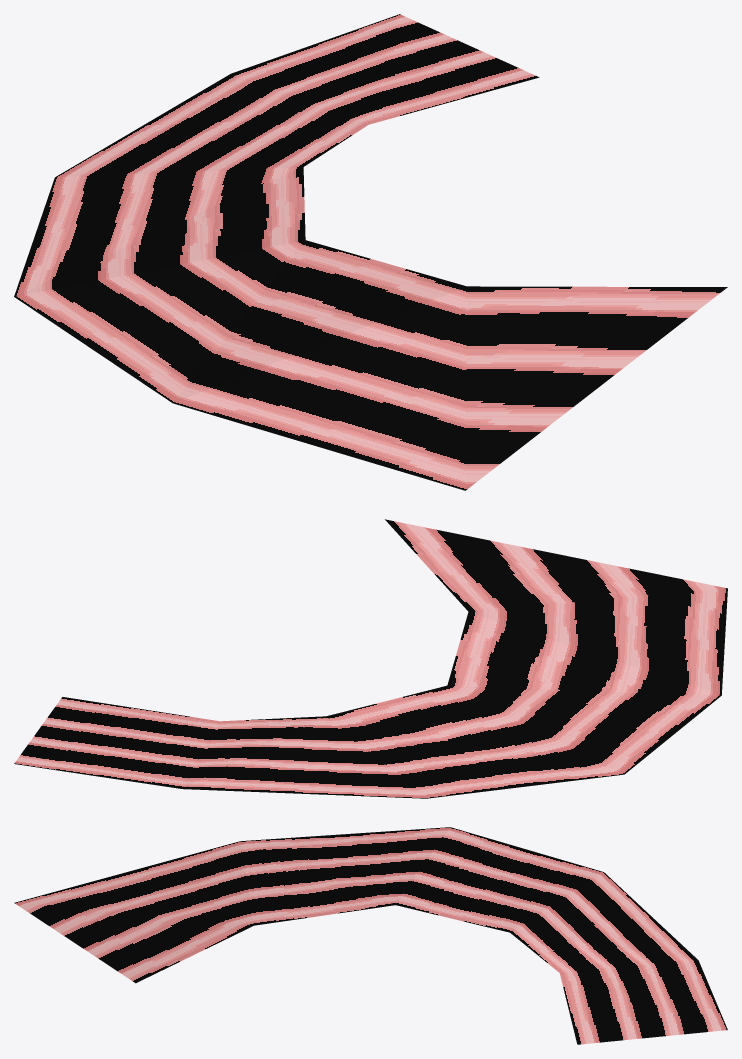
The picture shows the model from 3 angles, top to bottom: view 1: azimuth 30°, elevation 25°; view 2: azimuth 150°, elevation 25°; view 3: azimuth 270°, elevation 25°; orthographic projection. The views are drawn at different scales.
Parts seen in each view (by area): view 1: ef_611; view 2: ef_611; view 3: ef_611.
Part boxes in pixels (x1,y1,x2,y2): ef_611: (14,14,727,490); ef_611: (14,519,727,798); ef_611: (14,827,727,1044).
Bounding box in the file's own units: 0.9844 × 0.0938 × 1.32.
1 material, 1 textured.
